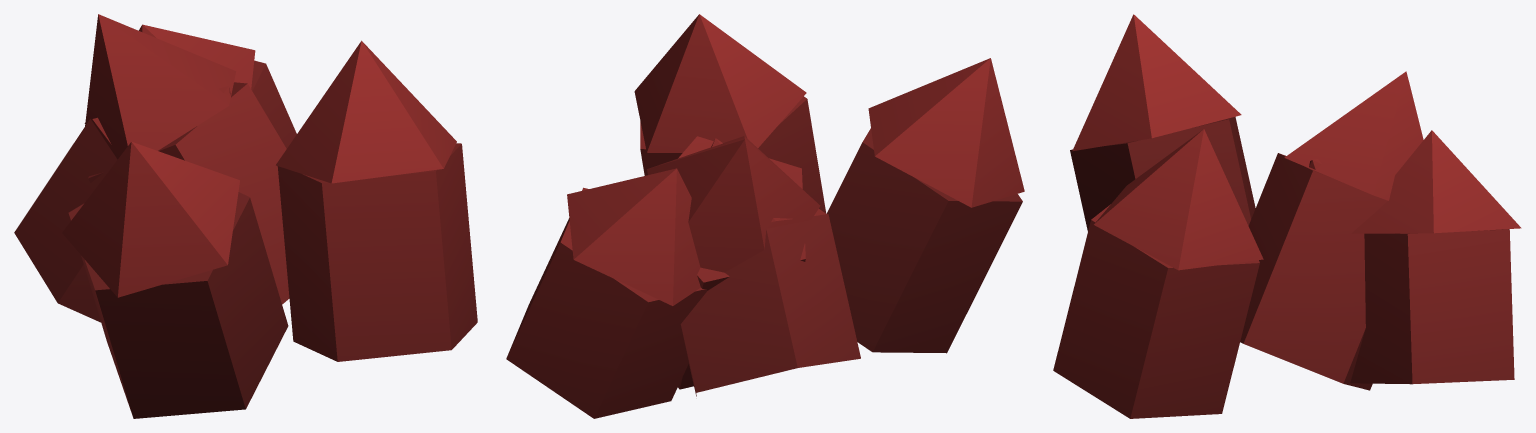
The model's file is bioflux.glb.
3 views of the same model, side by side, from view 1: azimuth 30°, elevation 25°; view 2: azimuth 150°, elevation 25°; view 3: azimuth 270°, elevation 25° (orthographic). The views are drawn at different scales.
Parts seen in each view (by area): view 1: bioflux; view 2: bioflux; view 3: bioflux.
Boxes of the visible parts, x1,y1,x2,y2 form: bioflux: (14, 14, 477, 418); bioflux: (506, 14, 1024, 418); bioflux: (1053, 14, 1521, 418).
Size of the model in its own units: 0.159 by 0.1234 by 0.1789.
